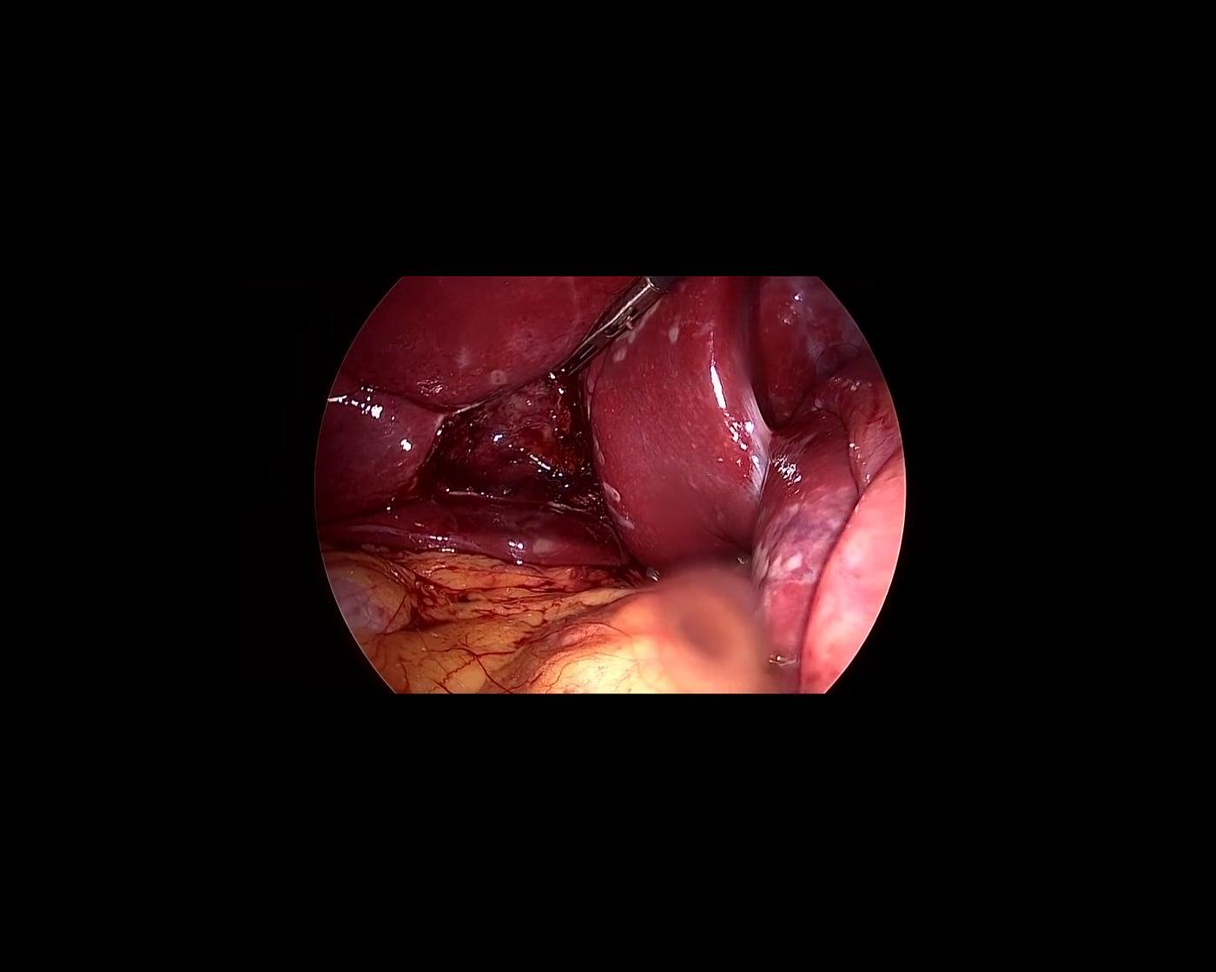Forceps: (545, 260, 680, 389)
Liver: (507, 211, 942, 676), (225, 165, 644, 551)
